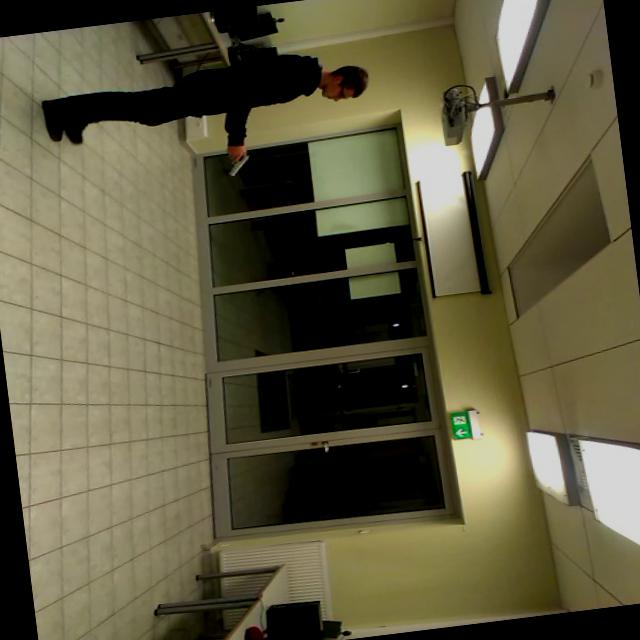handgun: (206, 146, 263, 191)
